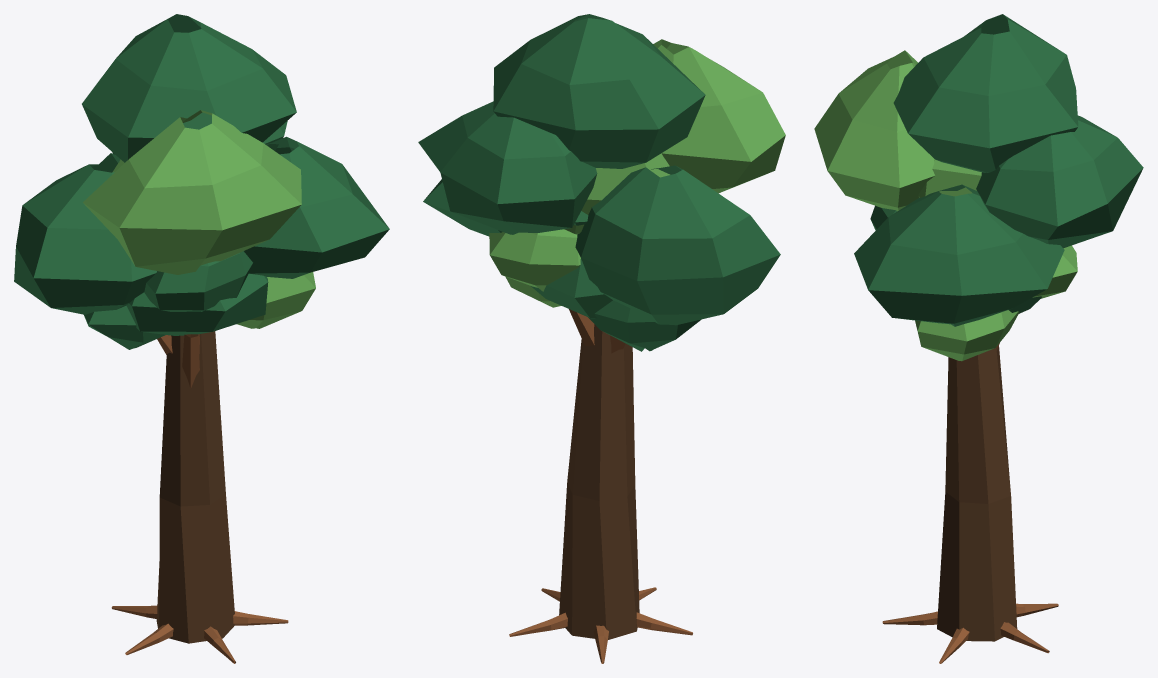
The model's file is tree_c.glb.
The picture shows the model from 3 angles, left to right: view 1: azimuth 30°, elevation 25°; view 2: azimuth 150°, elevation 25°; view 3: azimuth 270°, elevation 25°; orthographic projection. The views are drawn at different scales.
Parts seen in each view (by area): view 1: TREE_C; view 2: TREE_C; view 3: TREE_C.
Part boxes in pixels (left/top/right/bottom): TREE_C: left=14, top=14, right=389, bottom=663; TREE_C: left=418, top=14, right=785, bottom=663; TREE_C: left=814, top=14, right=1143, bottom=663.
Bounding box in the file's own units: 4.34 × 7.79 × 3.83.
